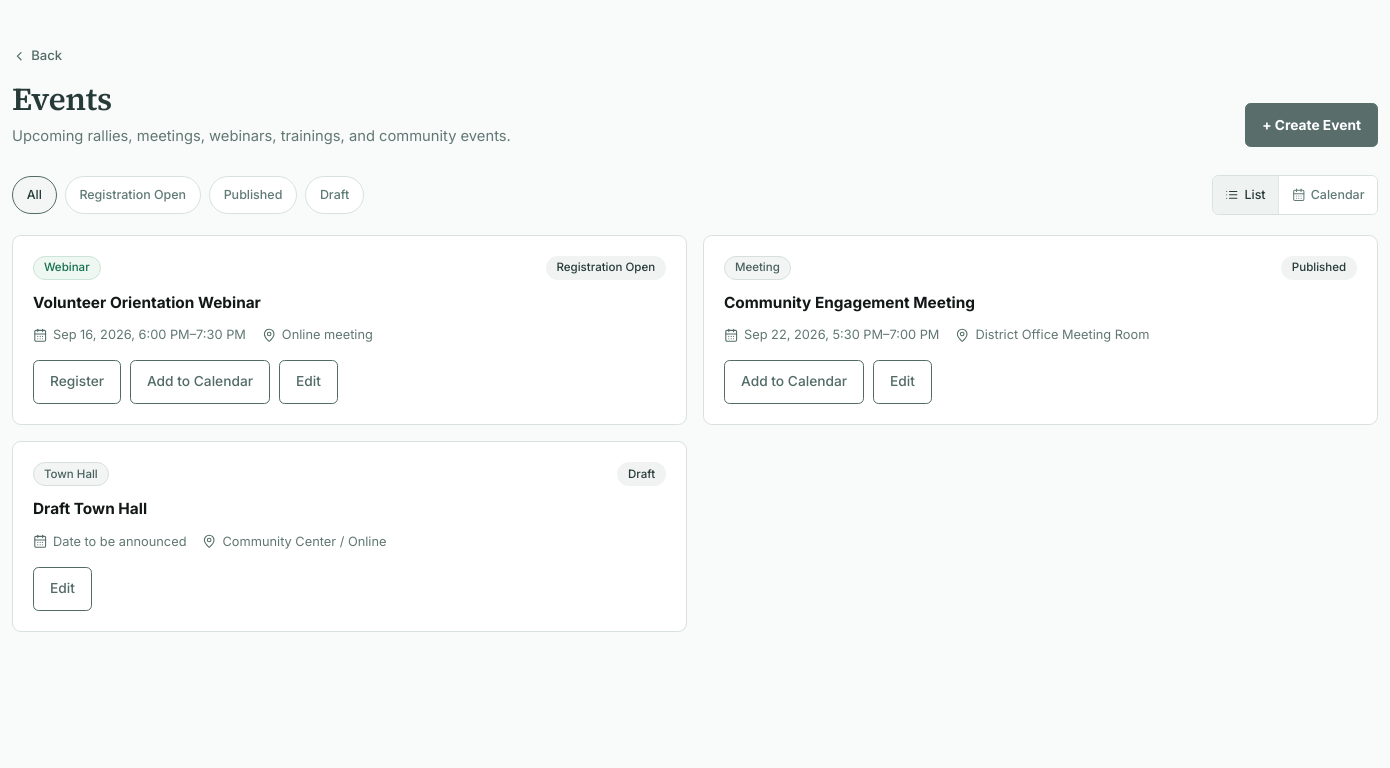
Test: Events › lets administrators filter all events by Event Status
Expected: the button "All" is shown, top-left (12, 176), bottom-right (57, 214)
Expected: the button "Registration Open" is shown, top-left (65, 176), bottom-right (201, 214)
Step 1. Click the button "Draft" → coordinates (335, 195), box top-left (305, 176), bottom-right (364, 214)
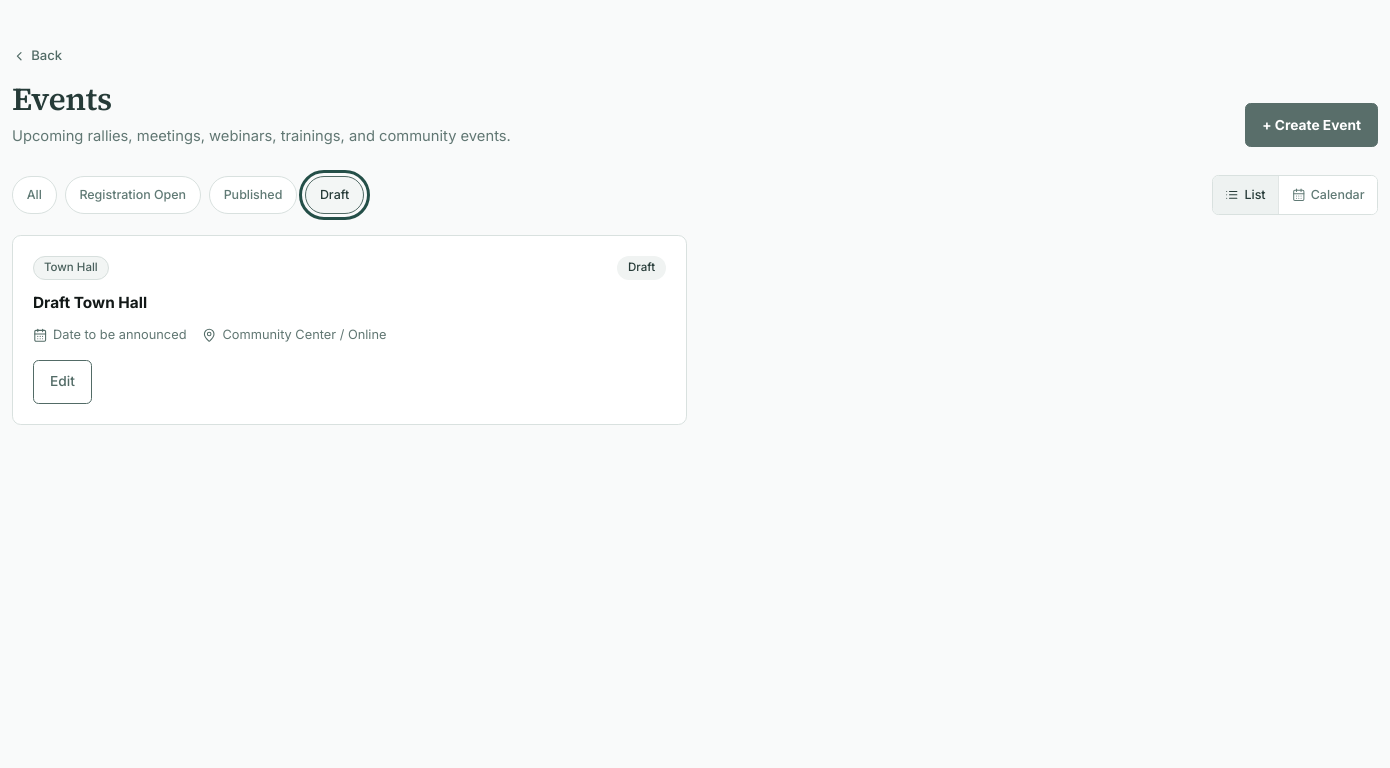
Expected: the heading "Draft Town Hall" is shown, top-left (33, 293), bottom-right (147, 314)
Now the button "Volunteer Orientation Webinar" is gone
